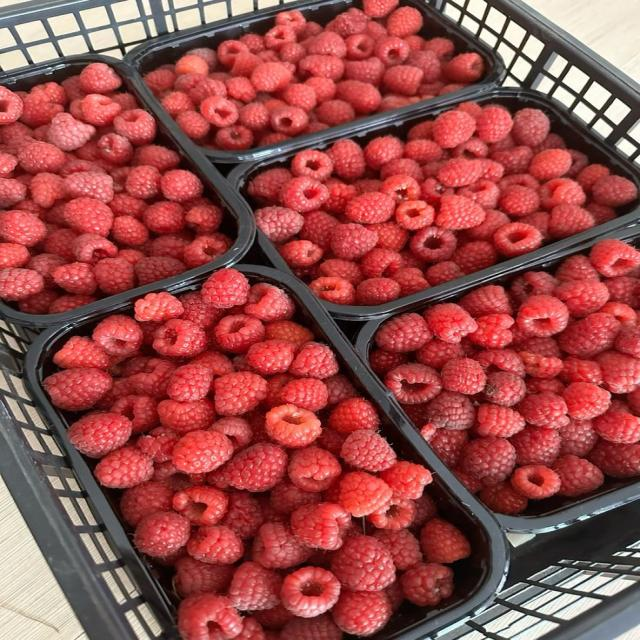raspberry: (331, 536, 394, 591), (223, 443, 286, 491), (178, 594, 243, 639), (44, 368, 112, 411), (282, 567, 340, 617), (291, 503, 351, 550), (68, 413, 131, 457), (332, 590, 392, 636), (558, 312, 619, 357), (253, 523, 311, 568), (228, 562, 282, 610), (134, 511, 190, 557), (173, 431, 233, 472), (462, 438, 515, 484), (94, 447, 153, 488), (175, 556, 234, 597), (120, 482, 173, 527), (340, 472, 392, 517), (341, 430, 396, 472), (385, 363, 441, 404), (288, 447, 340, 491), (266, 405, 321, 446), (401, 563, 453, 606), (214, 372, 266, 415), (420, 519, 470, 563), (517, 295, 568, 337), (187, 526, 243, 564), (552, 455, 603, 496), (424, 304, 477, 343), (93, 315, 142, 357), (221, 492, 264, 539), (153, 318, 206, 356), (554, 281, 609, 317), (380, 461, 431, 499), (510, 427, 561, 465), (374, 530, 422, 570), (201, 269, 249, 308), (327, 398, 379, 434), (47, 113, 95, 152), (590, 239, 639, 277), (64, 198, 113, 236), (245, 283, 294, 321), (289, 342, 339, 379), (589, 440, 639, 477), (158, 400, 214, 433), (270, 479, 321, 515), (518, 392, 569, 428), (427, 391, 475, 429), (54, 336, 109, 369), (563, 382, 610, 420), (596, 352, 639, 393), (254, 207, 304, 242), (111, 395, 157, 433), (280, 177, 328, 212), (247, 340, 295, 375), (0, 211, 46, 247), (410, 227, 457, 262), (331, 224, 378, 259), (460, 286, 513, 317), (494, 223, 542, 257), (184, 234, 232, 268), (477, 404, 526, 437), (511, 466, 560, 499), (440, 359, 486, 394), (248, 168, 292, 204), (299, 211, 339, 250), (434, 110, 475, 148), (114, 109, 156, 146), (548, 205, 595, 238), (18, 141, 65, 174), (180, 292, 223, 328), (20, 92, 64, 127), (480, 482, 528, 514), (280, 614, 341, 639), (327, 141, 366, 180), (368, 498, 415, 530), (470, 314, 514, 348), (337, 80, 381, 114), (346, 192, 394, 223), (65, 172, 113, 203), (453, 241, 498, 274), (94, 258, 135, 294), (135, 293, 185, 322), (511, 109, 550, 146), (594, 411, 639, 443), (592, 175, 637, 207), (484, 372, 526, 406), (78, 94, 122, 126), (53, 262, 97, 294), (0, 268, 44, 300), (407, 42, 441, 83), (160, 169, 202, 202), (520, 351, 562, 384), (540, 179, 586, 209), (555, 255, 599, 286), (211, 417, 252, 450), (476, 106, 513, 142), (474, 350, 525, 376), (364, 136, 403, 170), (73, 234, 117, 264), (443, 53, 484, 85), (438, 158, 483, 187), (467, 209, 509, 240), (529, 149, 571, 180), (266, 320, 313, 347), (30, 173, 66, 208), (309, 277, 355, 304), (80, 63, 121, 93), (280, 241, 323, 269), (383, 65, 423, 95), (251, 62, 292, 91), (125, 166, 161, 199), (356, 278, 400, 305), (27, 254, 65, 285), (299, 55, 344, 81), (394, 201, 434, 230), (369, 222, 409, 251), (135, 145, 179, 171), (560, 357, 602, 384), (380, 175, 419, 204), (270, 107, 308, 136), (98, 134, 133, 165), (387, 7, 423, 37), (374, 37, 410, 67), (185, 205, 222, 234), (307, 31, 346, 58), (369, 350, 409, 376), (575, 164, 610, 193), (316, 100, 355, 126), (394, 268, 429, 296), (283, 85, 317, 112), (48, 295, 97, 313), (413, 494, 437, 530), (0, 87, 23, 124), (304, 77, 335, 103), (615, 327, 639, 357), (175, 54, 209, 75), (153, 239, 186, 259), (363, 0, 398, 18)
